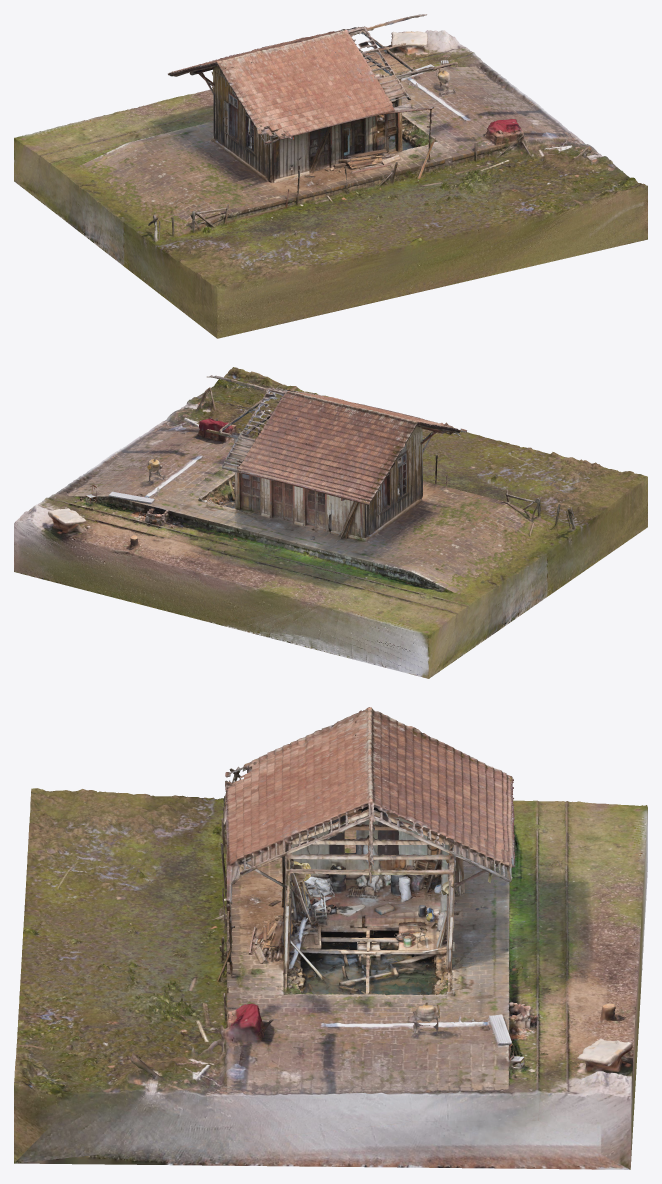
The model's file is mapa1presidente_pena_-_estacao.glb.
3 renders of one model, top to bottom at view 1: azimuth 30°, elevation 25°; view 2: azimuth 150°, elevation 25°; view 3: azimuth 270°, elevation 25°, orthographic. The views are drawn at different scales.
Parts seen in each view (by area): view 1: PennaCompleta5_1; view 2: PennaCompleta5_1; view 3: PennaCompleta5_1.
Boxes of the visible parts, box(x1,y1,x2,y2) form: PennaCompleta5_1: box(14, 14, 647, 338); PennaCompleta5_1: box(14, 367, 647, 678); PennaCompleta5_1: box(14, 707, 647, 1169).
Size of the model in its own units: 83.73 by 30.24 by 72.98.
Materials: 4 (4 with a texture image).
